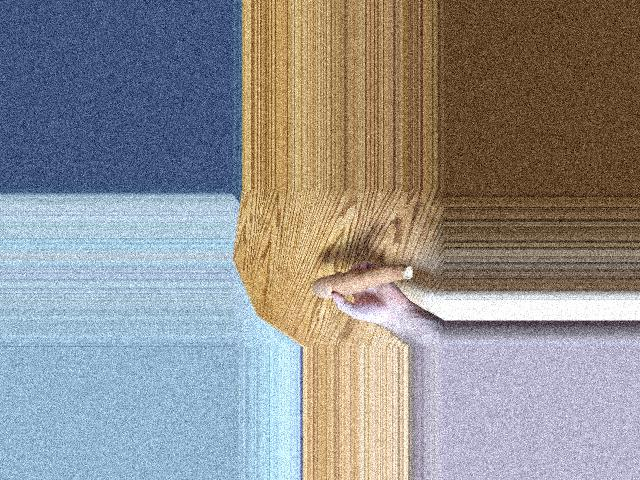sweet_potato: (306, 264, 409, 294)
